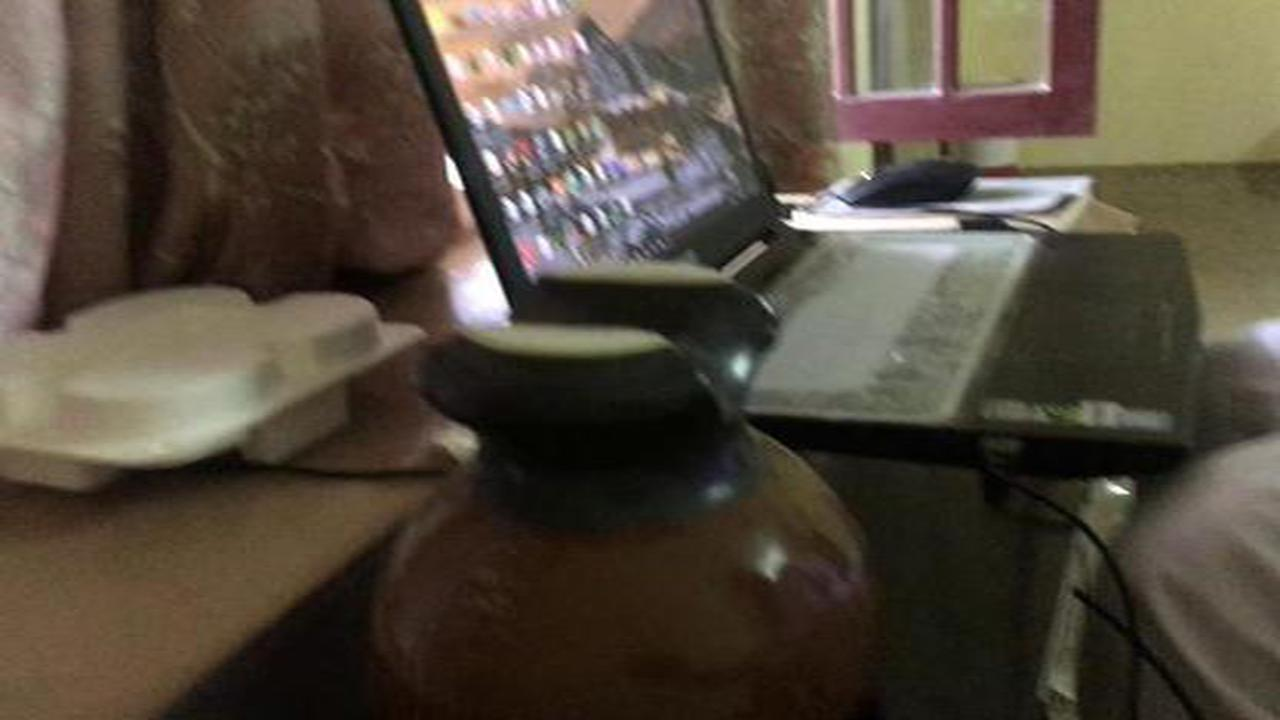insulator_pin: (354, 246, 911, 720)
